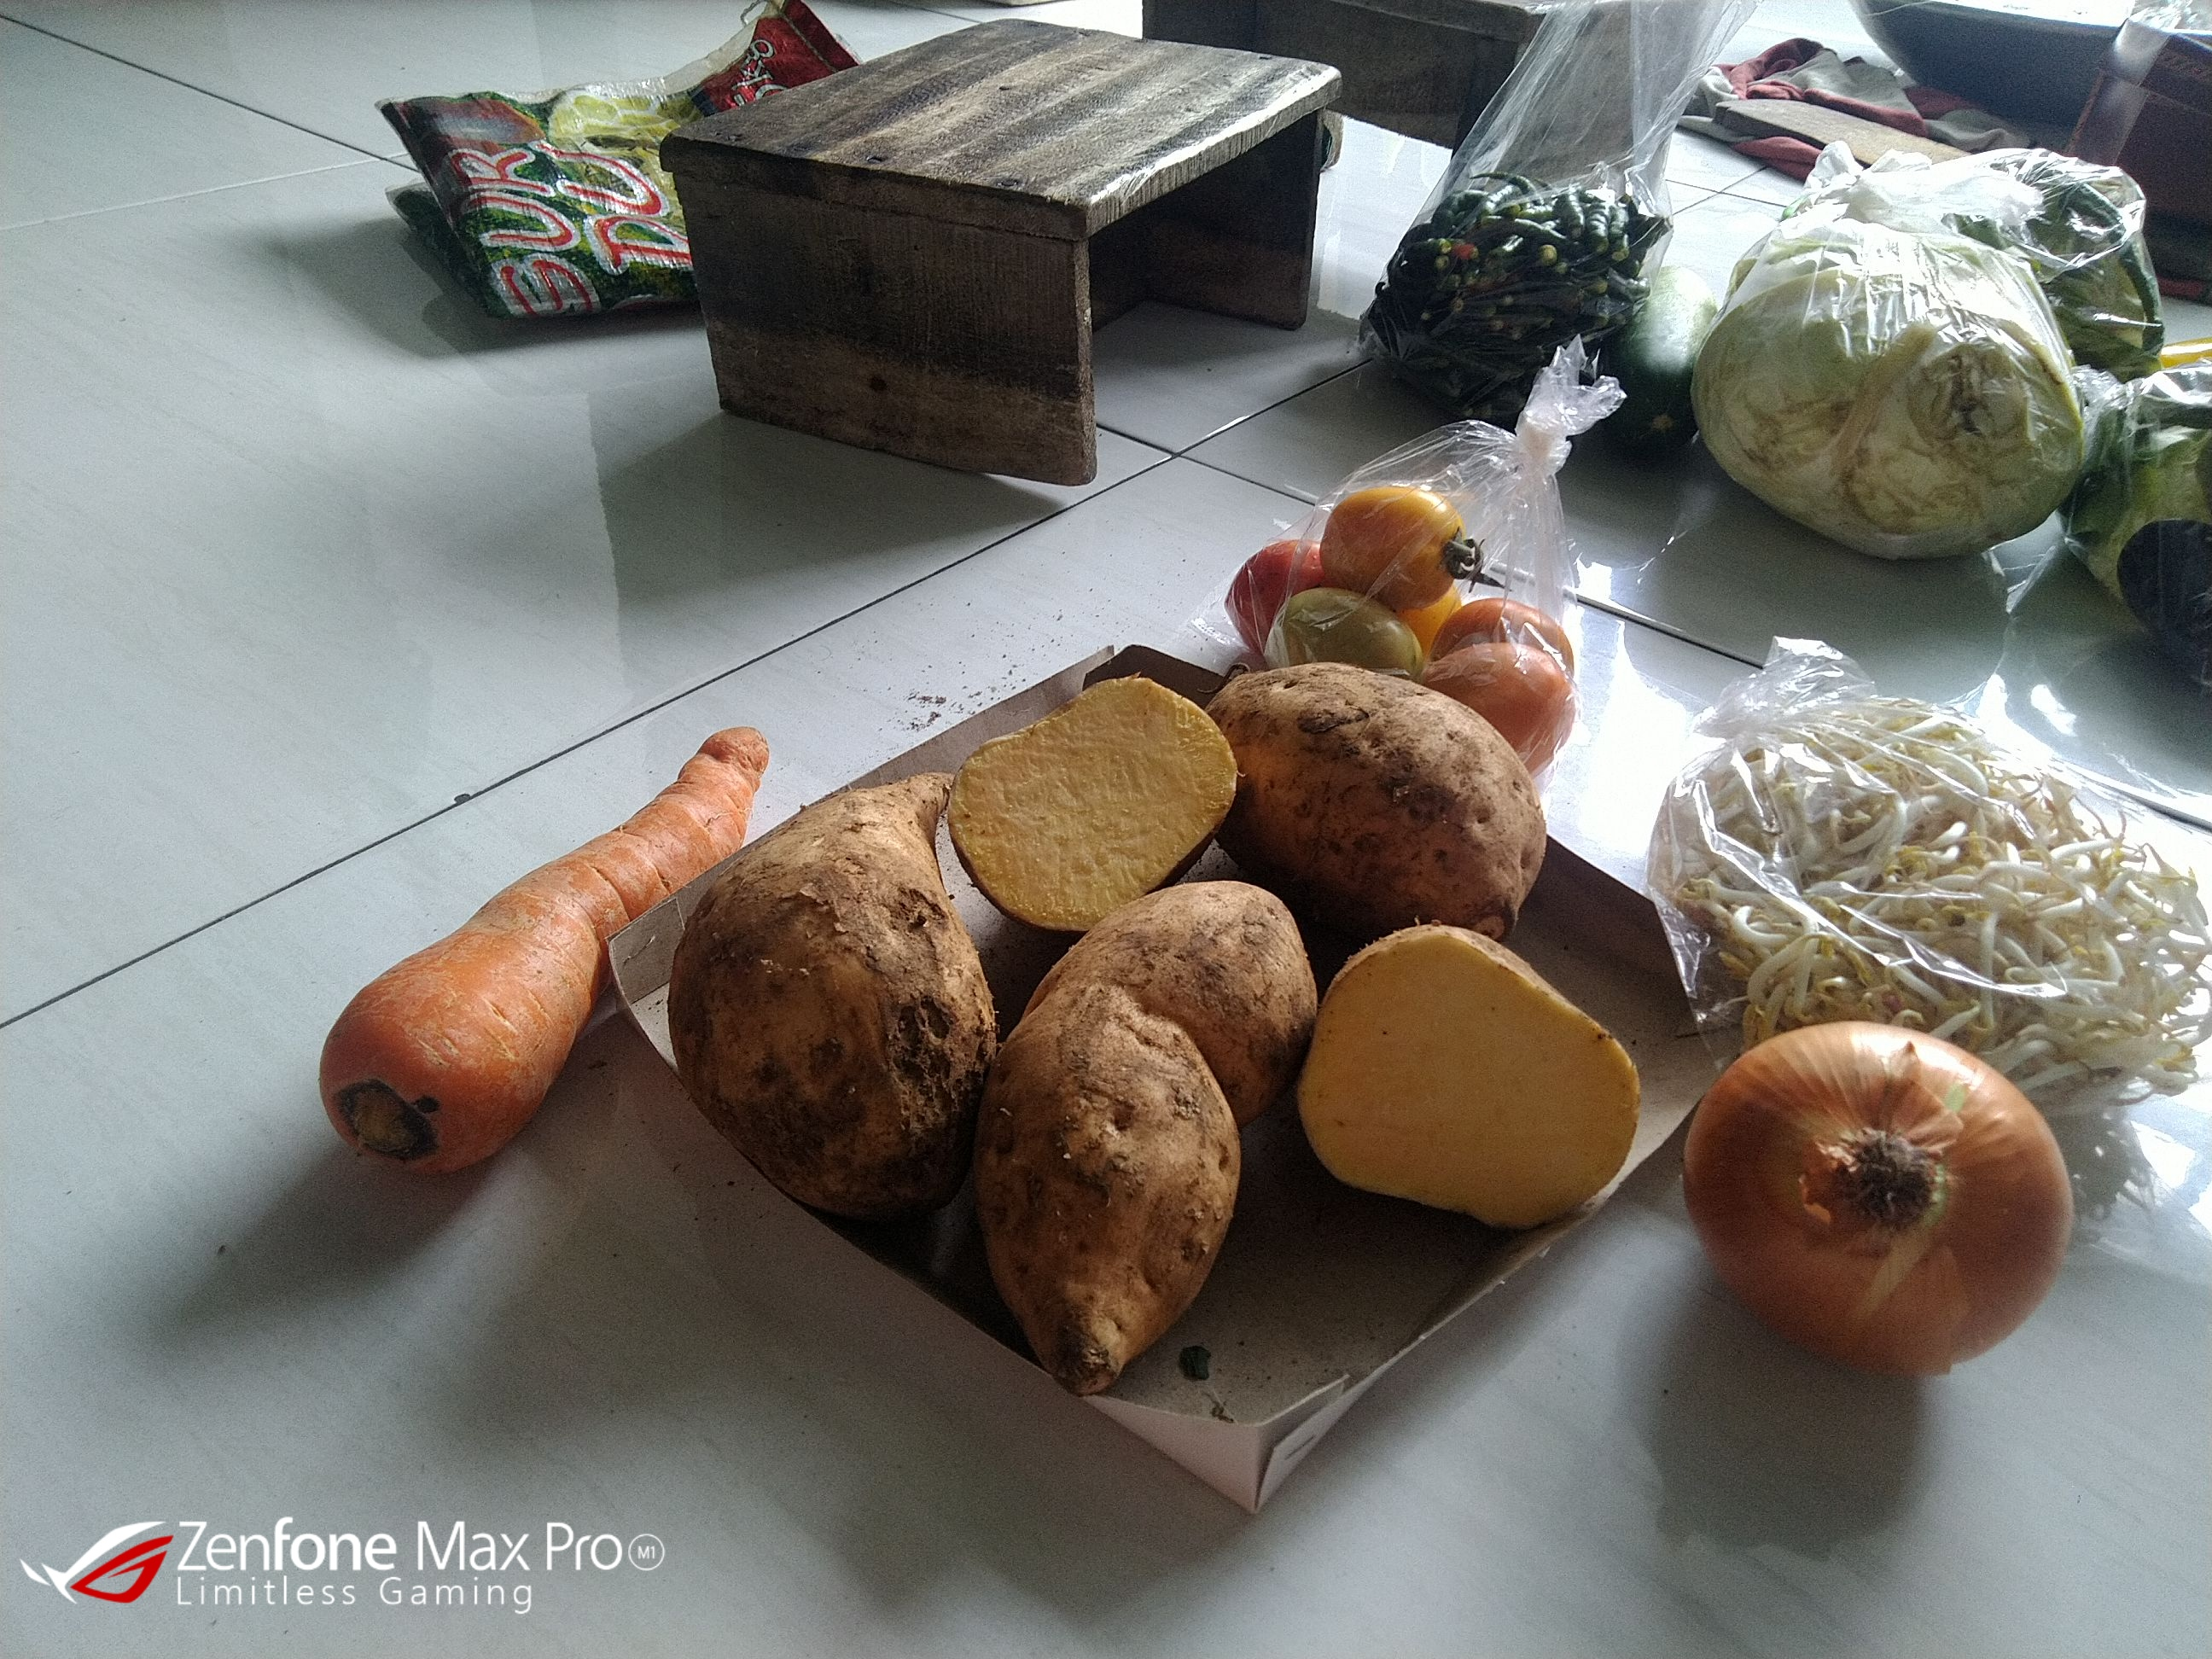ubi kuning: (965, 882, 1336, 1413), (665, 763, 993, 1220), (1292, 918, 1667, 1241), (1207, 660, 1543, 938), (939, 667, 1251, 932)
